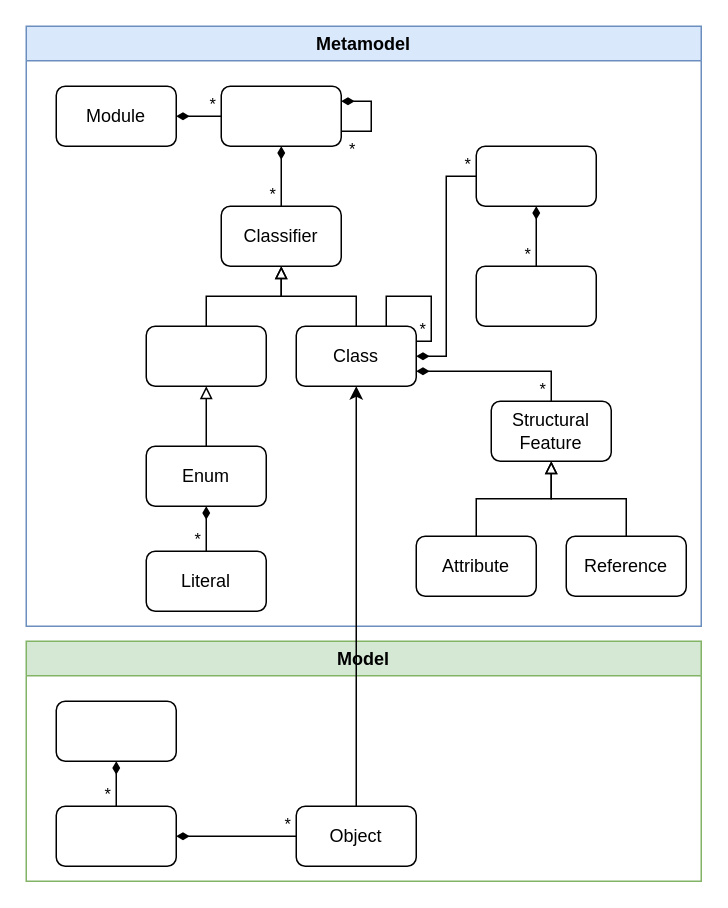
This 728x908 diagram has some shape labels left out. Each missing label, with the box of its shape:
Data type: (145, 325, 266, 386)
Operation: (475, 145, 596, 206)
Package: (220, 85, 341, 146)
Parameter: (475, 265, 596, 326)
Resource: (55, 805, 176, 866)
Resource Set: (55, 700, 176, 761)
